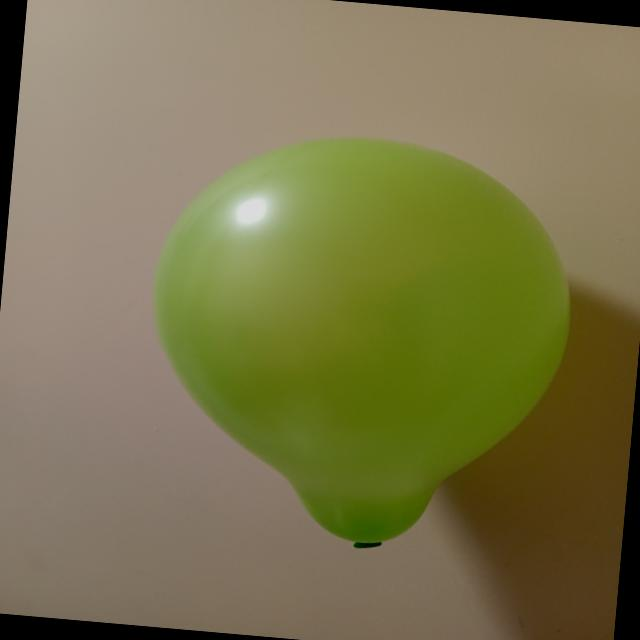balloon: (154, 138, 570, 547)
